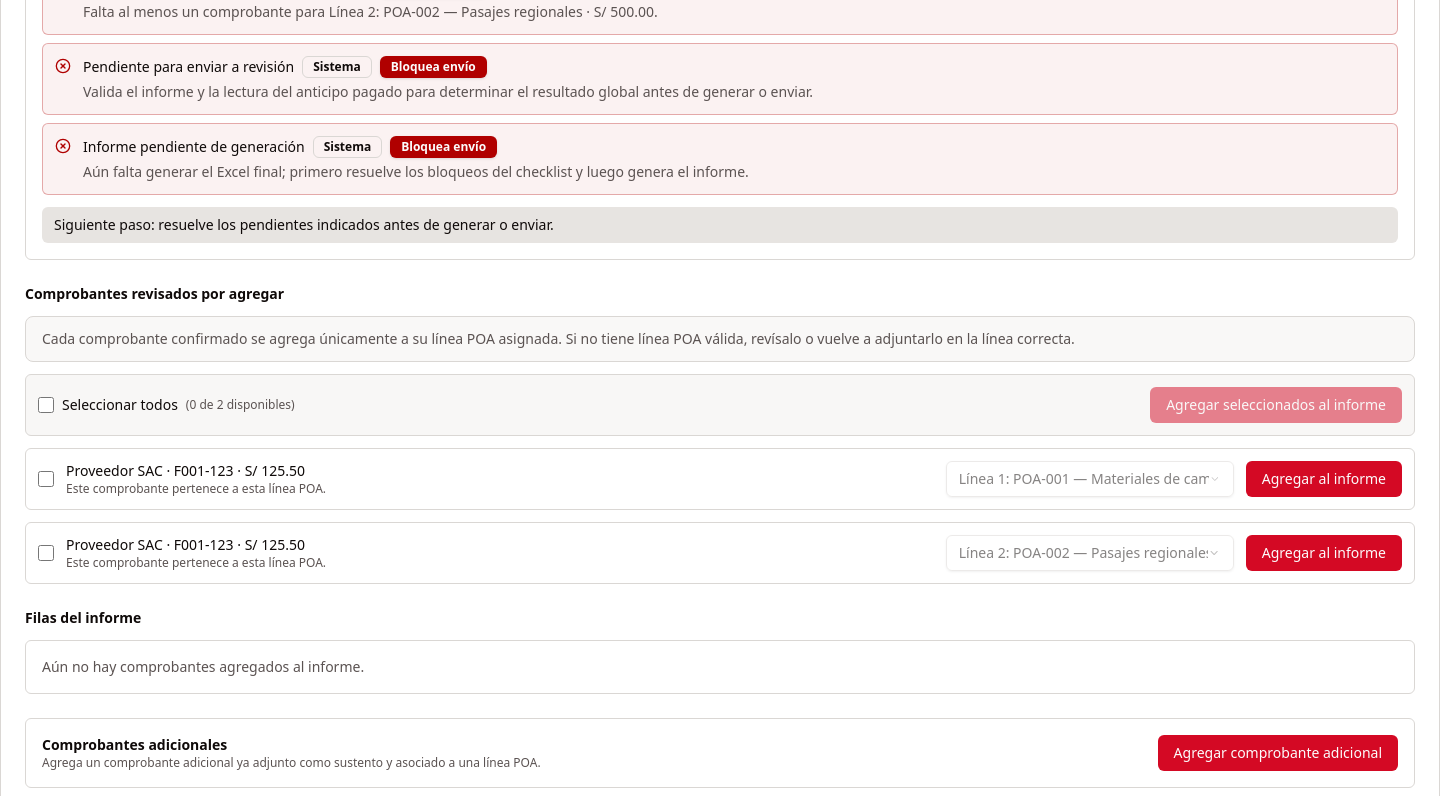
Test: StructuredRenditionReportCard › mantiene resultados por comprobante cuando el agregado masivo tiene fallas parciales
The width and height of the screenshot is (1440, 796).
(page scrolled)
Click the checkbox labelled "Seleccionar todos (0 de 2 disponibles)" at x=46, y=405, box 38,397 -> 54,413
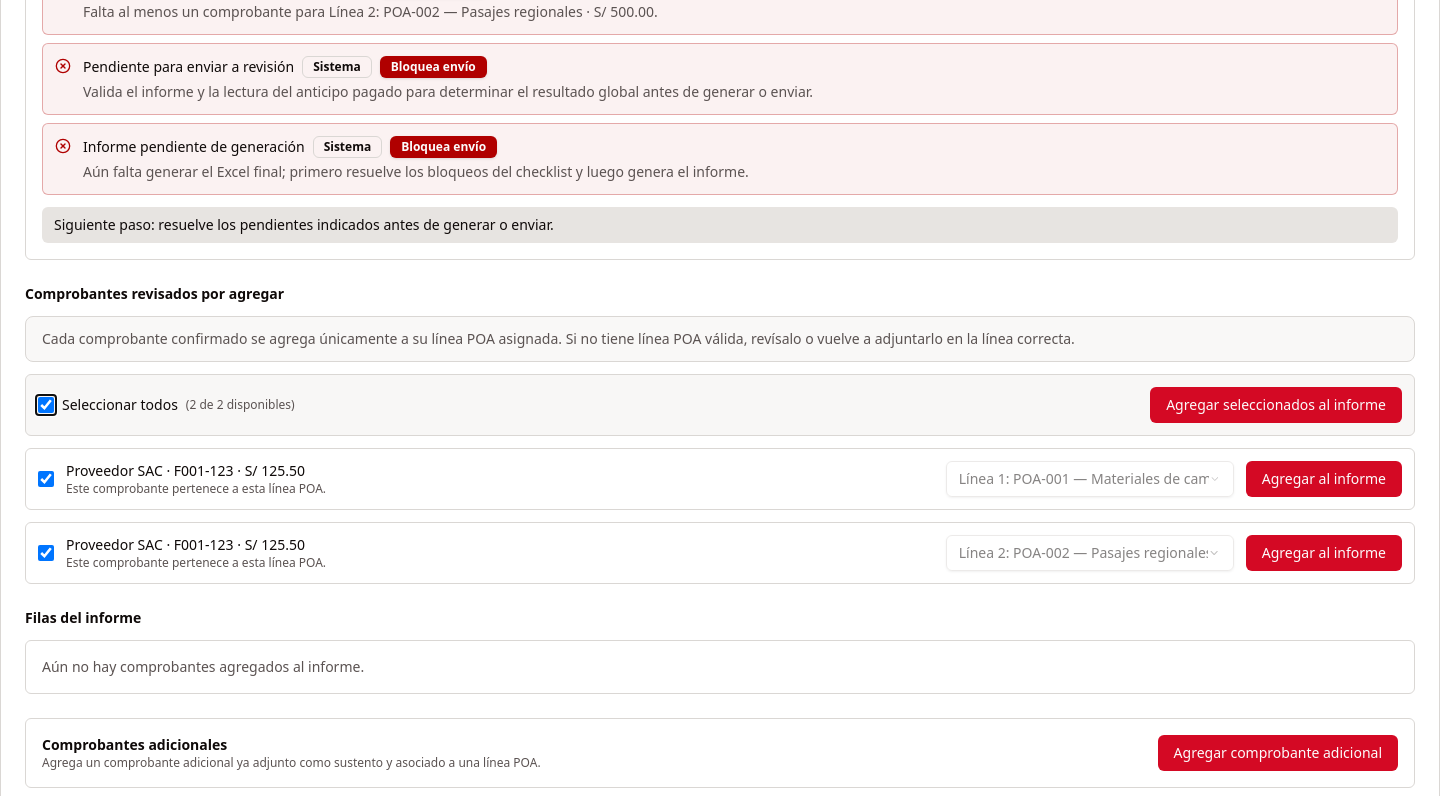
Click the button "Agregar seleccionados al informe" at x=1276, y=405, box 1150,387 -> 1402,423
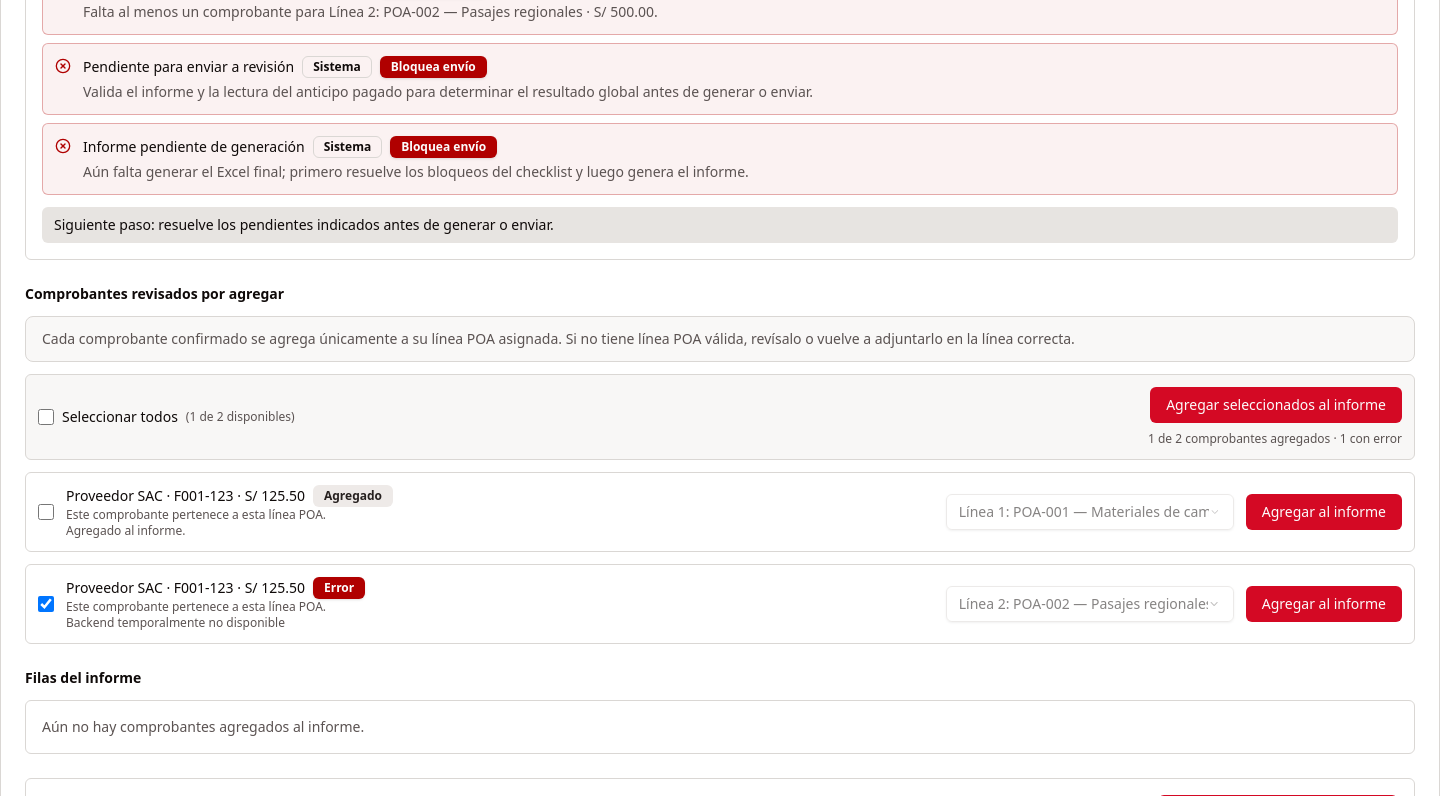
Check: the text "1 de 2 comprobantes agregados · 1 con error" is shown, box 1148,431 -> 1402,447
Check: the text "Backend temporalmente no disponible" is shown, box 66,614 -> 285,631
